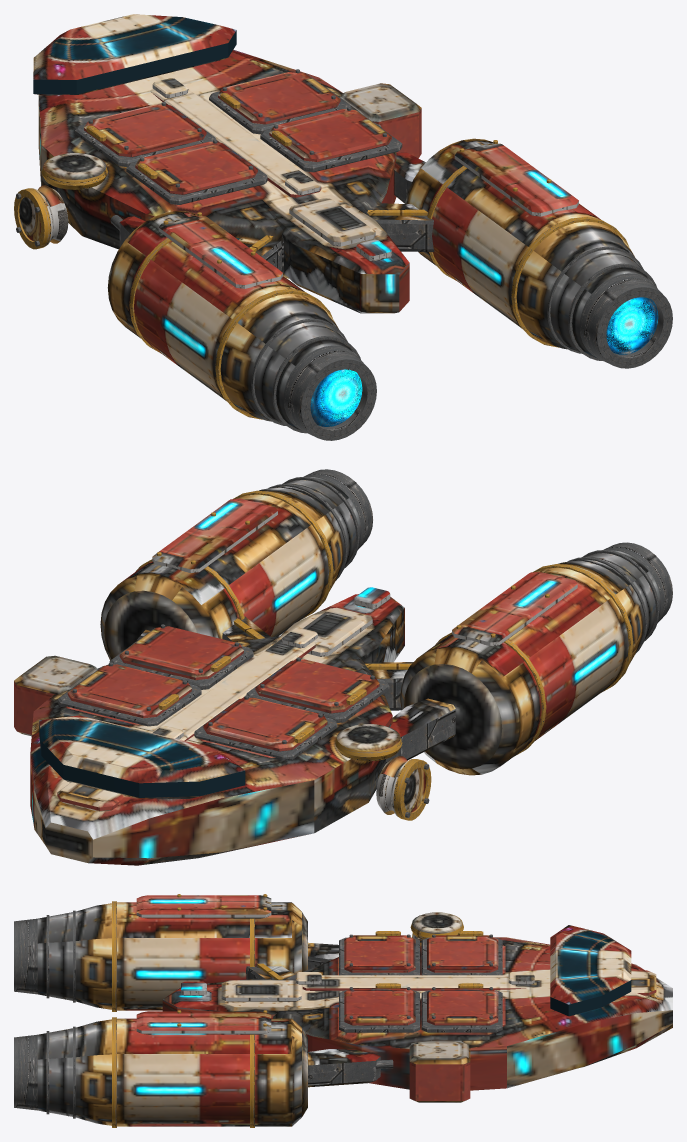
Rendered from small-fortune.glb.
3 renders of one model, top to bottom at view 1: azimuth 30°, elevation 25°; view 2: azimuth 150°, elevation 25°; view 3: azimuth 270°, elevation 25°, orthographic. The views are drawn at different scales.
Visible parts, largest first — view 1: hull / Small Fortune / painted hull and fittings, hull / Ventral / Small Fortune; view 2: hull / Small Fortune / painted hull and fittings, hull / Ventral / Small Fortune; view 3: hull / Small Fortune / painted hull and fittings, hull / Ventral / Small Fortune.
Part boxes in pixels (box(x1,y1,x2,y2)): hull / Small Fortune / painted hull and fittings: box(14, 14, 672, 440); hull / Ventral / Small Fortune: box(34, 58, 596, 429); hull / Small Fortune / painted hull and fittings: box(14, 469, 672, 862); hull / Ventral / Small Fortune: box(18, 521, 617, 865); hull / Small Fortune / painted hull and fittings: box(14, 894, 672, 1127); hull / Ventral / Small Fortune: box(37, 917, 672, 1126).
Size of the model in its own units: 11.68 by 3.53 by 19.95.
2 materials, 2 textured.
